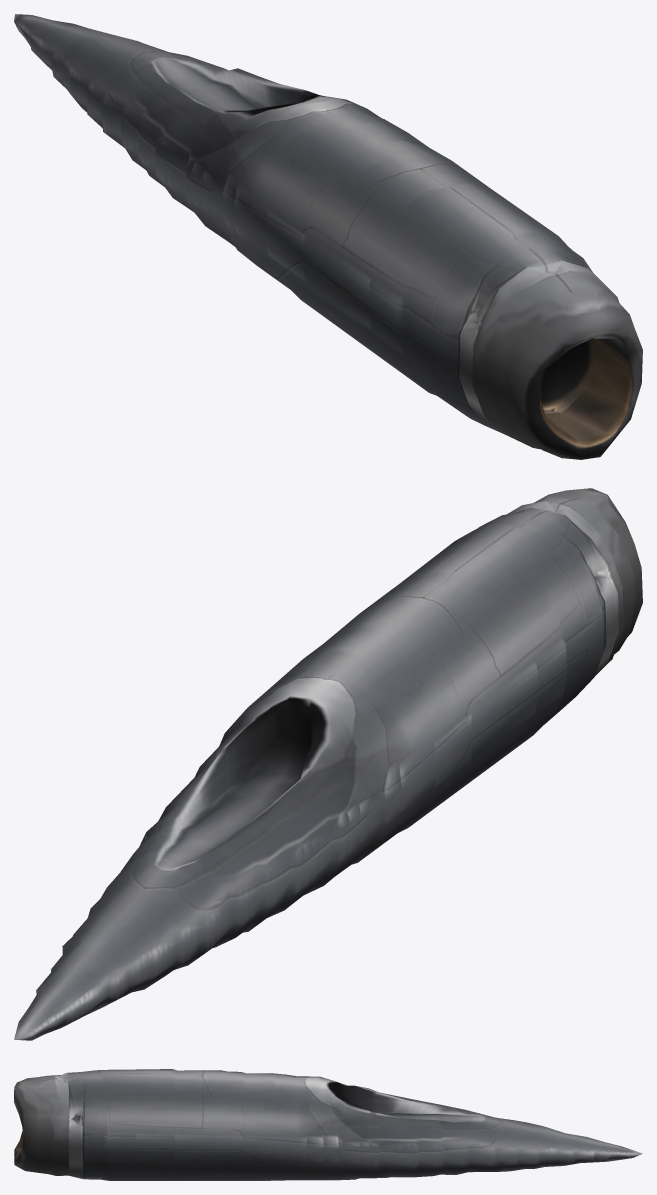
File: nacelle.glb
3 views of the same model, one above another, from view 1: azimuth 30°, elevation 25°; view 2: azimuth 150°, elevation 25°; view 3: azimuth 270°, elevation 25° (orthographic). The views are drawn at different scales.
Parts seen in each view (by area): view 1: nacelle; view 2: nacelle; view 3: nacelle.
Boxes of the visible parts, bbox=[...] form: nacelle: bbox=[14, 14, 642, 459]; nacelle: bbox=[14, 488, 642, 1040]; nacelle: bbox=[14, 1069, 642, 1180].
Bounding box in the file's own units: 0.5111 × 0.5566 × 3.07.
Materials: 1 (1 with a texture image).
